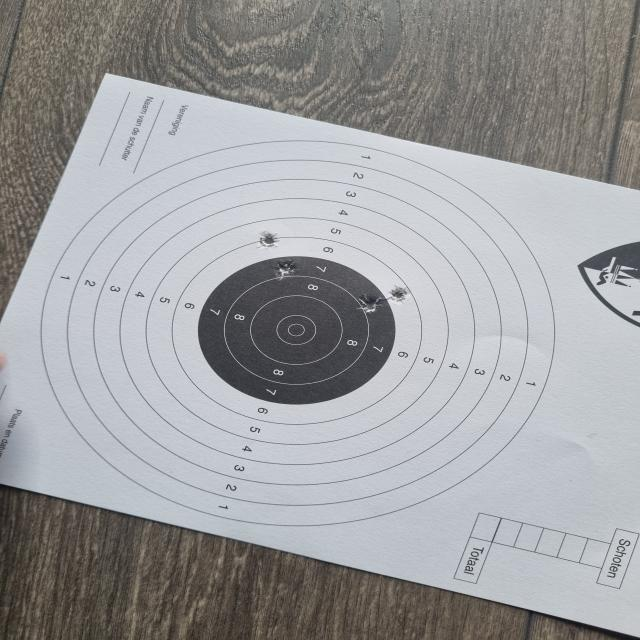6: (257, 232, 280, 248), (389, 286, 410, 302)
8: (273, 261, 296, 281), (356, 295, 382, 312)
Target: (40, 143, 559, 526)
black_contour: (196, 255, 397, 404)
